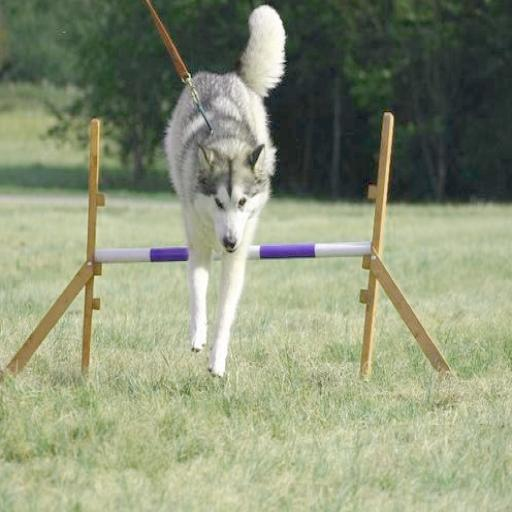dog_face: (196, 144, 271, 253)
